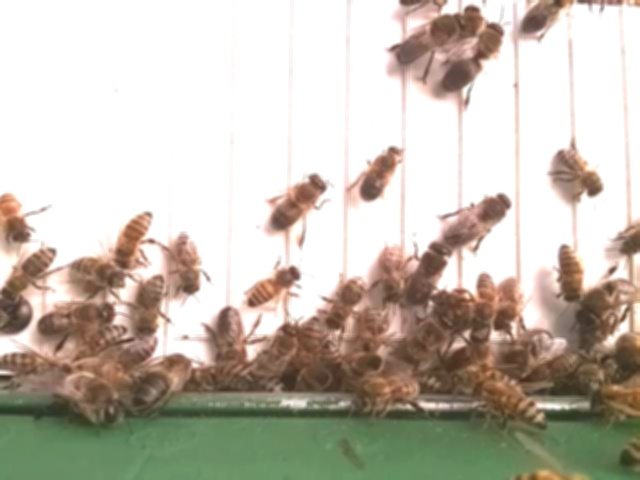Drone: (441, 19, 506, 96), (391, 11, 468, 66), (446, 188, 514, 248), (268, 169, 328, 235), (35, 299, 117, 341), (404, 240, 453, 307), (578, 278, 640, 327), (358, 142, 406, 204), (214, 302, 247, 368)
Worker: (4, 242, 58, 299), (476, 377, 544, 422), (246, 263, 305, 307), (557, 148, 606, 198), (116, 208, 155, 270), (326, 273, 366, 330), (171, 227, 202, 296), (70, 252, 123, 292), (556, 240, 588, 304), (379, 240, 410, 304), (495, 274, 528, 334), (136, 271, 167, 332), (0, 189, 33, 245), (473, 268, 497, 336), (298, 314, 324, 374)
